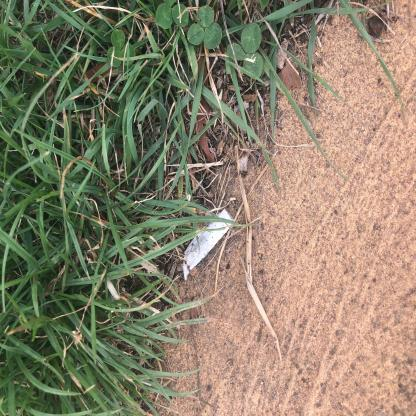trash: (100, 240, 159, 314)
